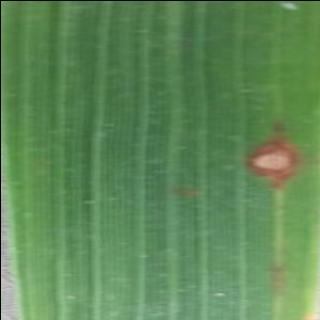Blast: (240, 124, 306, 192)
